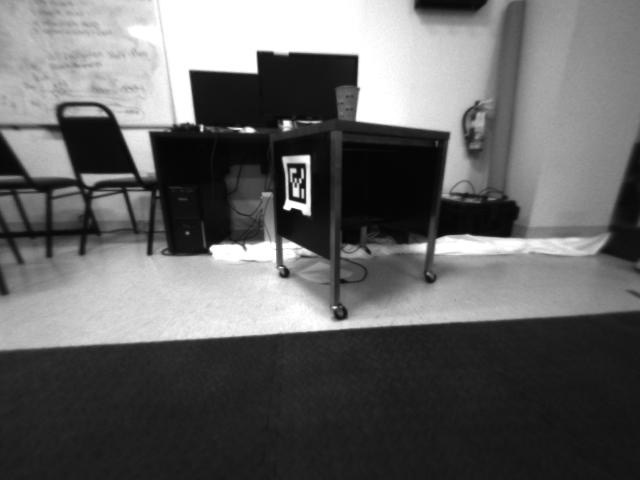coffee_cup: (331, 83, 360, 124)
